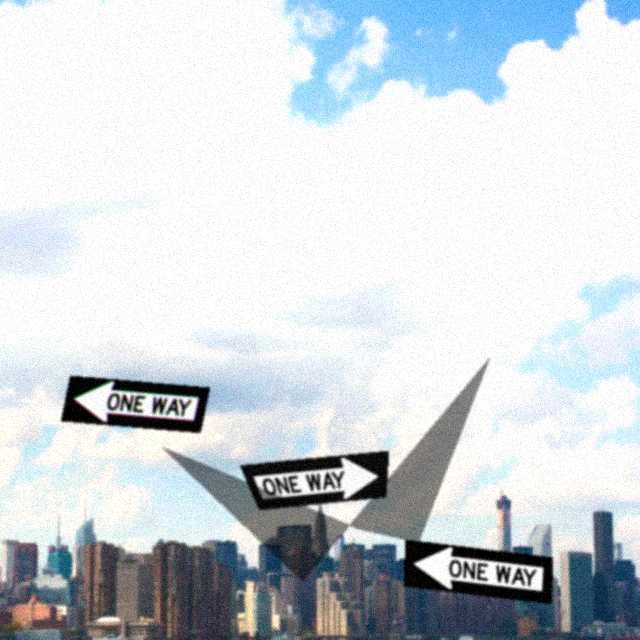ONE_WAY_ left: (403, 539, 553, 604), (60, 375, 210, 433)
ONE_WAY_ right: (239, 450, 389, 510)
